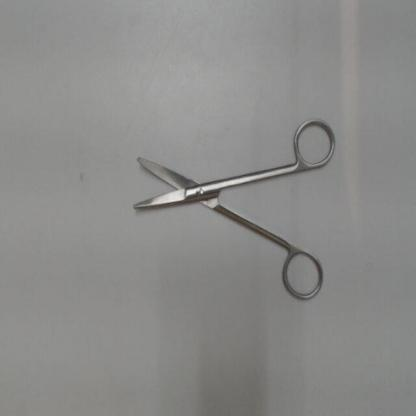Curved Mayo Scissors: (128, 113, 341, 309)
